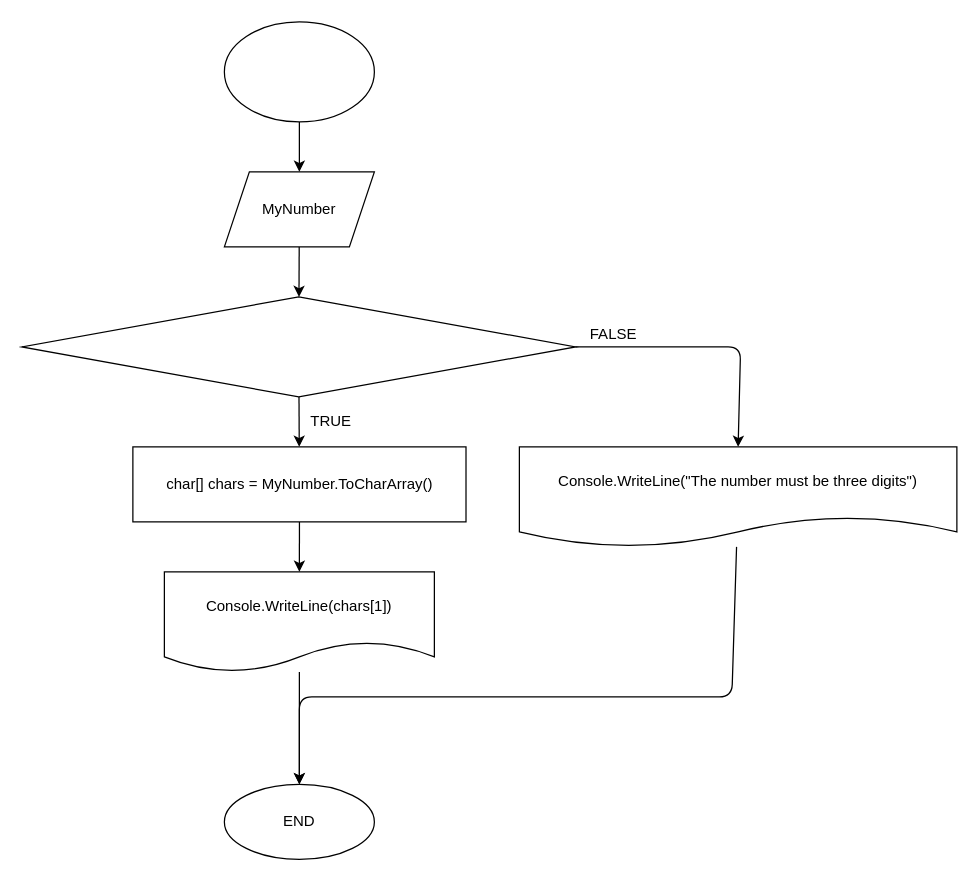
Some shapes in this 979 by 881 pixel diagram are drawn without their labels. Each missing label, with the box of its shape:
if (MyNumber == null ? false : MyNumber.Length == 3): (21, 296, 576, 397)
START: (223, 21, 374, 122)
